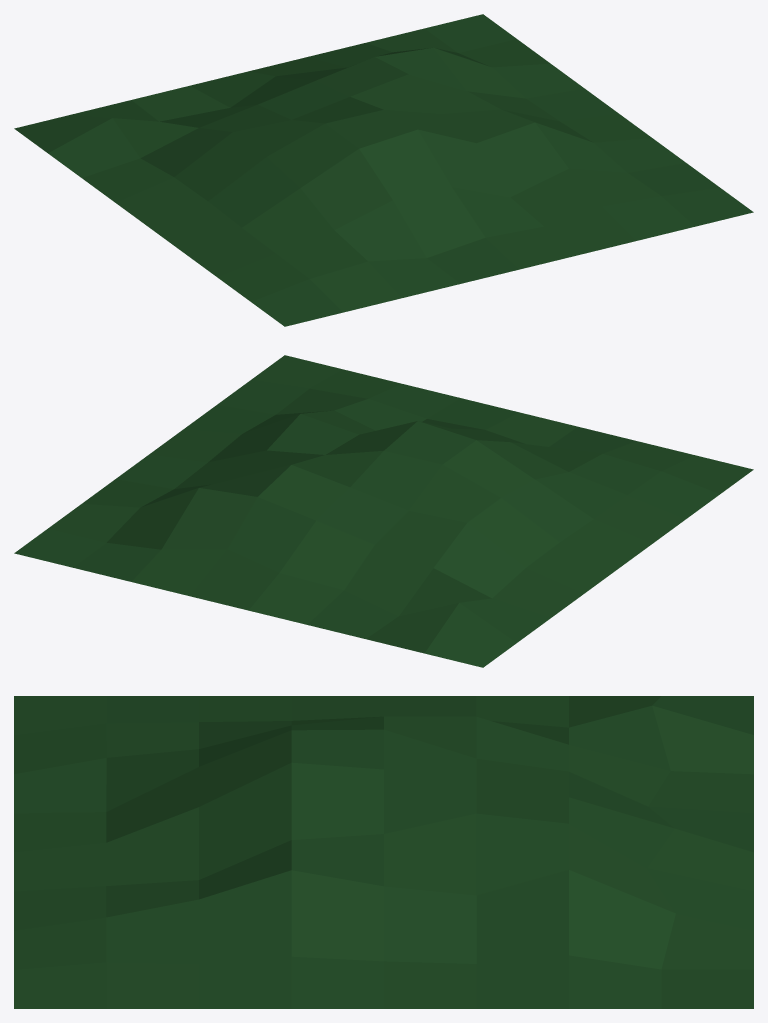
File: Terrain_7_Dark_Green.fbx
3 views of the same model, one above another, from view 1: azimuth 30°, elevation 25°; view 2: azimuth 150°, elevation 25°; view 3: azimuth 270°, elevation 25° (orthographic). The views are drawn at different scales.
Visible parts, largest first — view 1: Terrain_7_Dark_Green; view 2: Terrain_7_Dark_Green; view 3: Terrain_7_Dark_Green.
Boxes of the visible parts, <box> form: Terrain_7_Dark_Green: <box>14,14,753,326</box>; Terrain_7_Dark_Green: <box>14,355,753,667</box>; Terrain_7_Dark_Green: <box>14,696,753,1008</box>.
Size of the model in its own units: 4000 by 535 by 4000.
